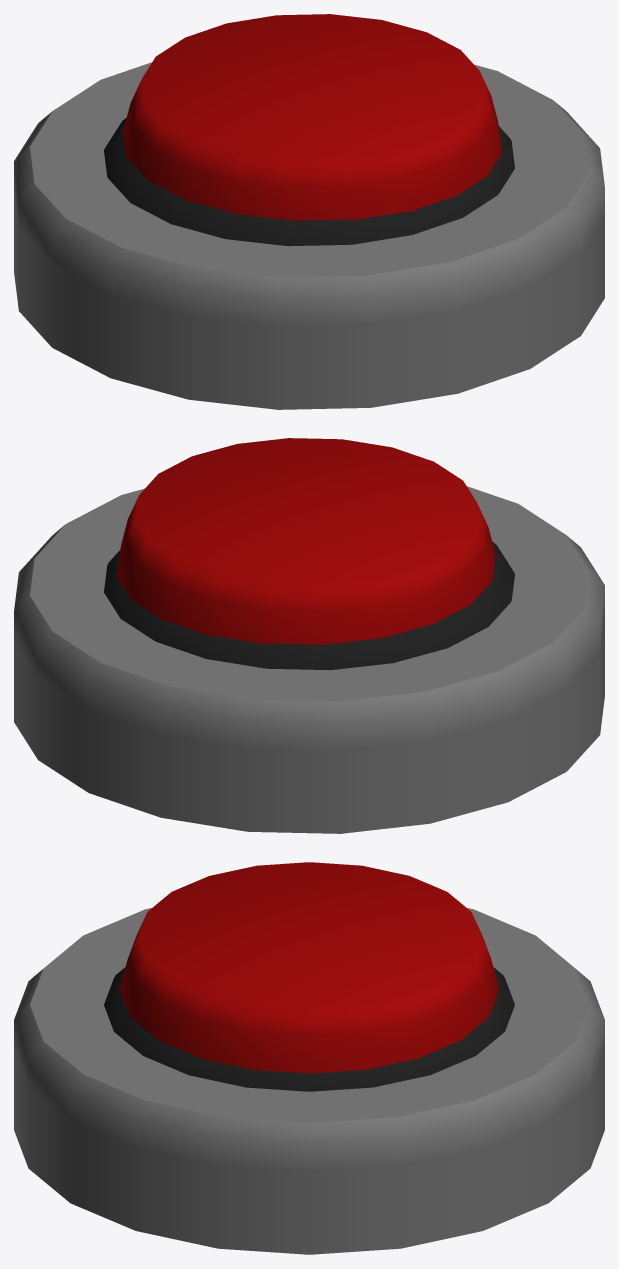
File: button2t.fbx
3 renders of one model, top to bottom at view 1: azimuth 30°, elevation 25°; view 2: azimuth 150°, elevation 25°; view 3: azimuth 270°, elevation 25°, orthographic.
Parts seen in each view (by area): view 1: pCylinder1, pCylinder3, pTorus1; view 2: pCylinder1, pCylinder3, pTorus1; view 3: pCylinder1, pCylinder3, pTorus1.
Boxes of the visible parts, bbox=[...] form: pCylinder1: bbox=[14, 62, 604, 409]; pCylinder3: bbox=[123, 14, 501, 220]; pTorus1: bbox=[104, 118, 514, 246]; pCylinder1: bbox=[14, 486, 604, 833]; pCylinder3: bbox=[117, 438, 495, 644]; pTorus1: bbox=[104, 542, 514, 670]; pCylinder1: bbox=[14, 908, 604, 1254]; pCylinder3: bbox=[120, 862, 498, 1073]; pTorus1: bbox=[104, 967, 514, 1091].
Bounding box in the file's own units: 4.99 × 1.84 × 4.99.
